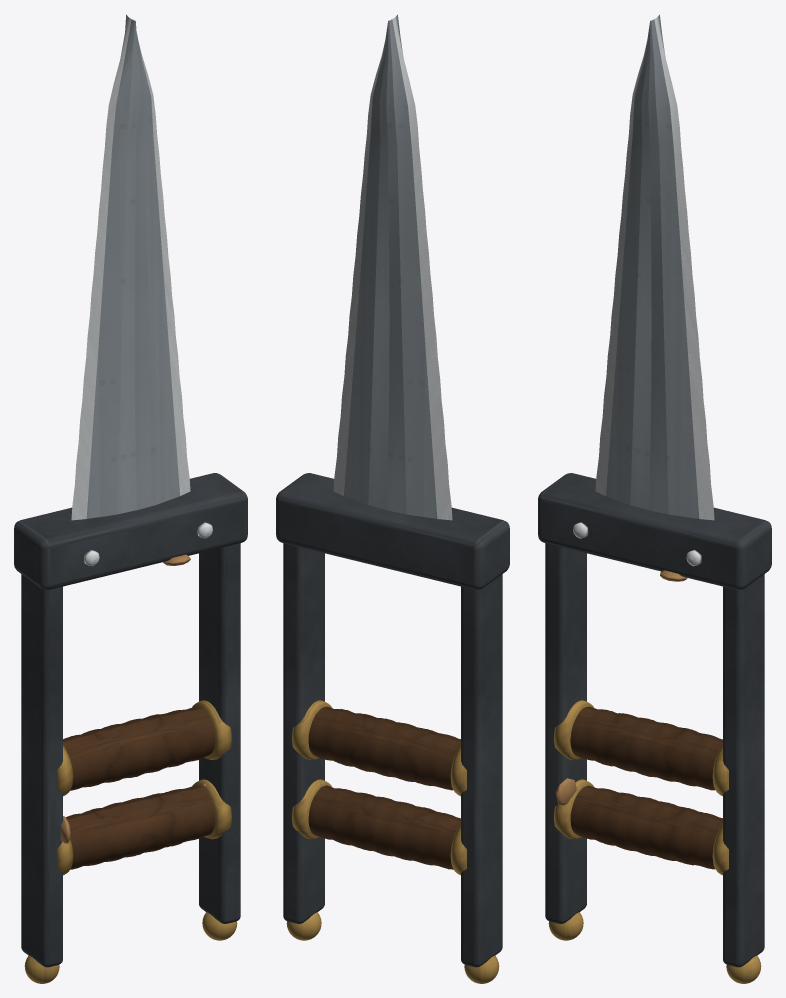
Rendered from punch-dagger.lod1.glb.
3 views of the same model, side by side, from view 1: azimuth 30°, elevation 25°; view 2: azimuth 150°, elevation 25°; view 3: azimuth 330°, elevation 25° (orthographic).
Visible parts, largest first — view 1: darksteel / oil-blackened fittings, steel / forged blade steel, leather / oiled leather wrap, edge / honed bright bevel, brass / polished brass furniture; view 2: darksteel / oil-blackened fittings, steel / forged blade steel, leather / oiled leather wrap, edge / honed bright bevel, brass / polished brass furniture; view 3: darksteel / oil-blackened fittings, steel / forged blade steel, leather / oiled leather wrap, edge / honed bright bevel, brass / polished brass furniture, peened pin.
Boxes of the visible parts, bbox=[...] form: darksteel / oil-blackened fittings: bbox=[14, 473, 247, 967]; steel / forged blade steel: bbox=[86, 14, 179, 518]; leather / oiled leather wrap: bbox=[63, 706, 215, 869]; edge / honed bright bevel: bbox=[71, 17, 212, 566]; brass / polished brass furniture: bbox=[24, 700, 237, 983]; darksteel / oil-blackened fittings: bbox=[276, 473, 509, 967]; steel / forged blade steel: bbox=[344, 14, 437, 518]; leather / oiled leather wrap: bbox=[308, 706, 460, 869]; edge / honed bright bevel: bbox=[333, 17, 452, 520]; brass / polished brass furniture: bbox=[286, 700, 499, 983]; darksteel / oil-blackened fittings: bbox=[538, 473, 771, 967]; steel / forged blade steel: bbox=[606, 14, 699, 518]; leather / oiled leather wrap: bbox=[570, 706, 722, 869]; edge / honed bright bevel: bbox=[573, 17, 714, 566]; brass / polished brass furniture: bbox=[548, 700, 761, 983]; peened pin: bbox=[555, 570, 687, 805].
Bounding box in the file's own units: 0.11 × 0.477 × 0.0338.
6 materials, 5 textured.
